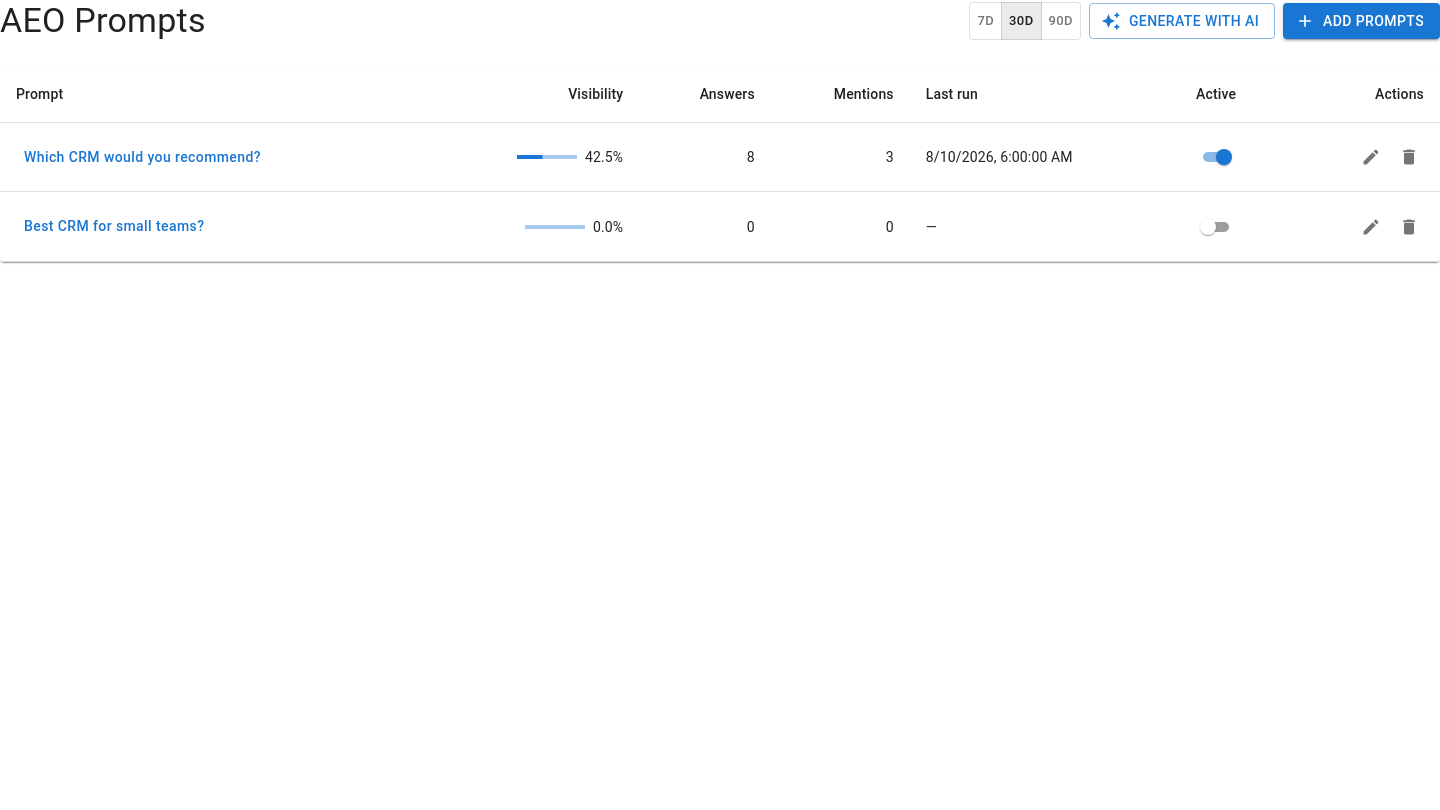
Test case: AEOPrompts › rejects an empty add-prompts submission client-side
The image size is (1440, 810).
expect the button "Which CRM would you recommend?" is shown: met, box [16, 139, 269, 176]
Step 1. Click the button "Add prompts" → [1362, 21], box [1283, 3, 1439, 39]
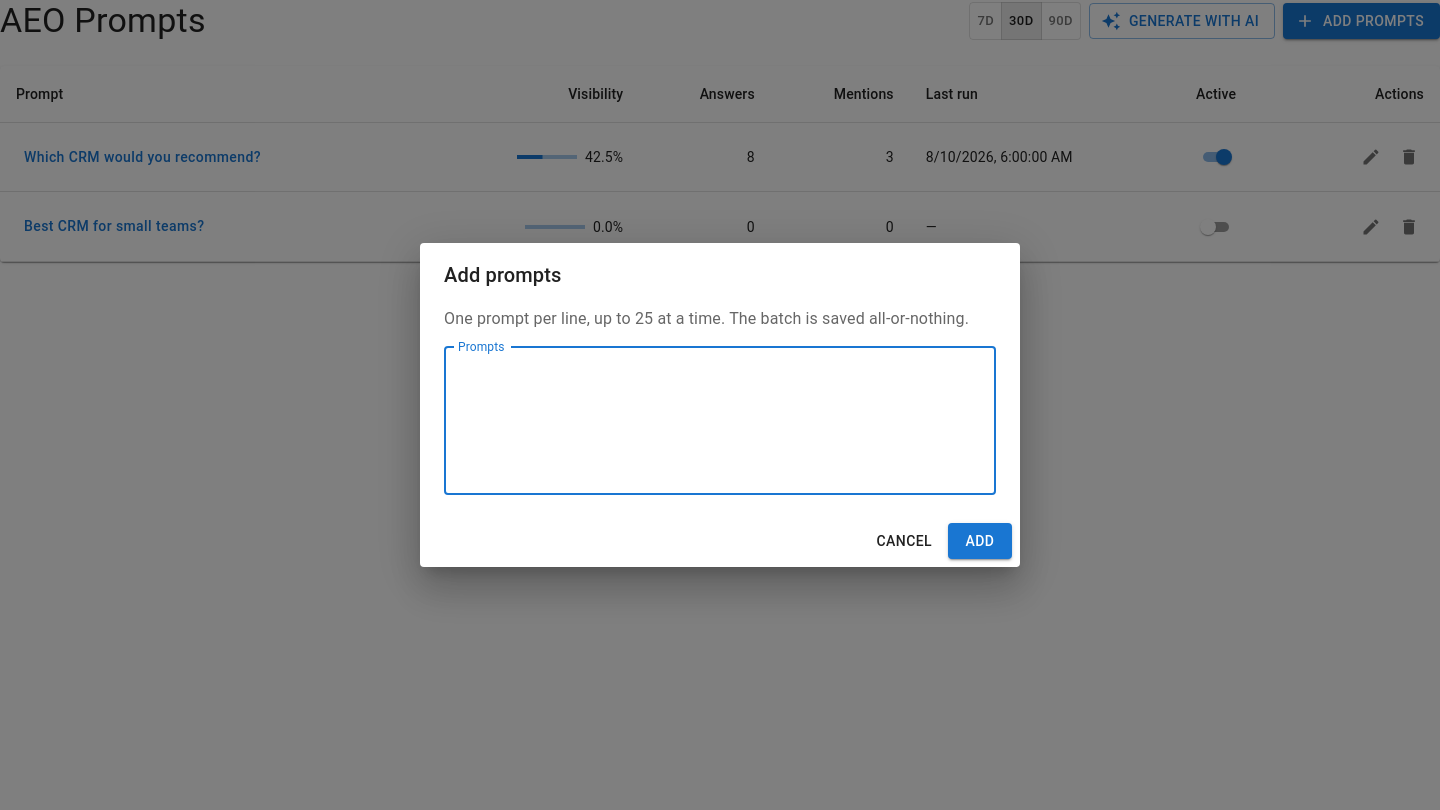
Step 2. Click the button "Add" → [980, 541], box [948, 523, 1012, 559]
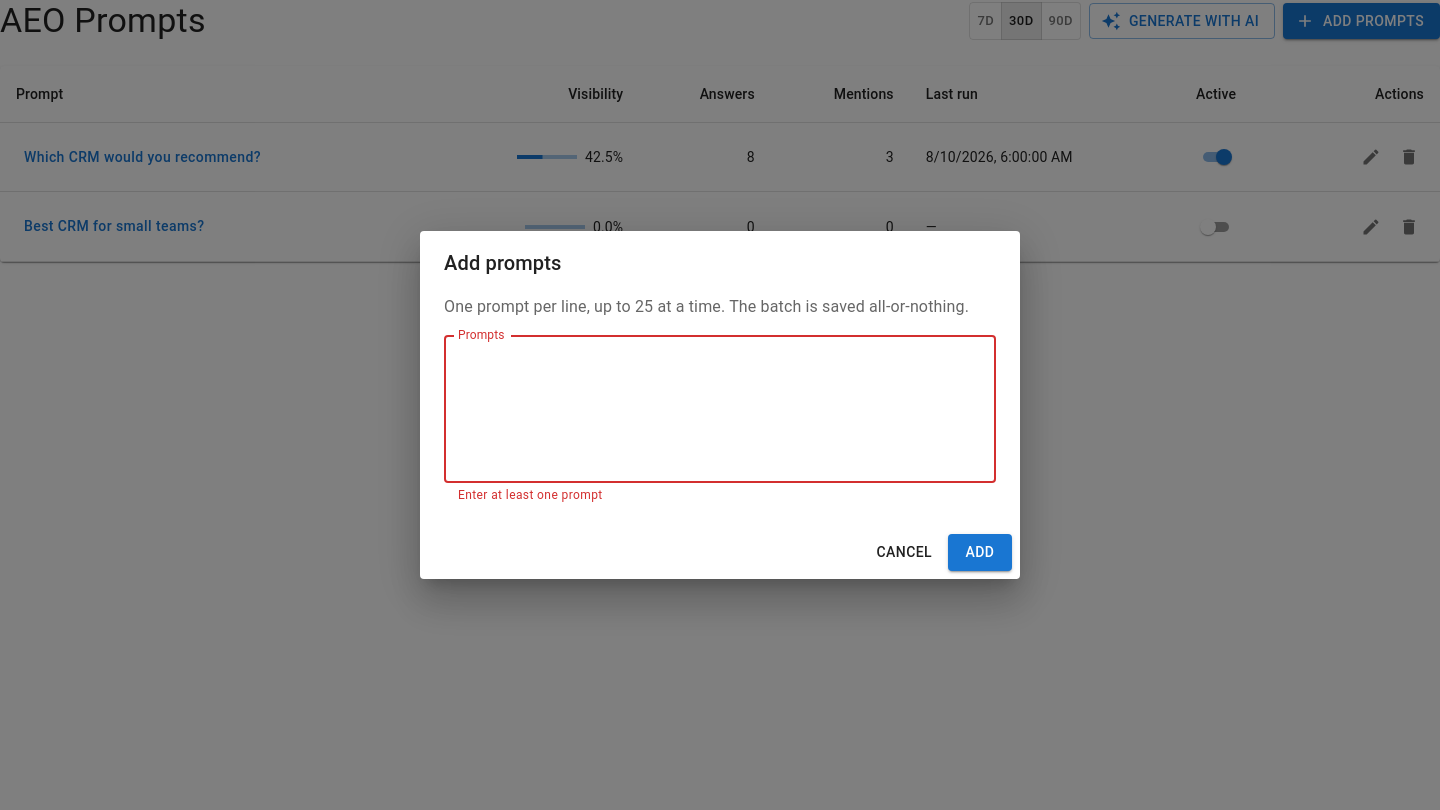
expect the text "Enter at least one prompt" is shown: met, box [458, 488, 603, 502]
